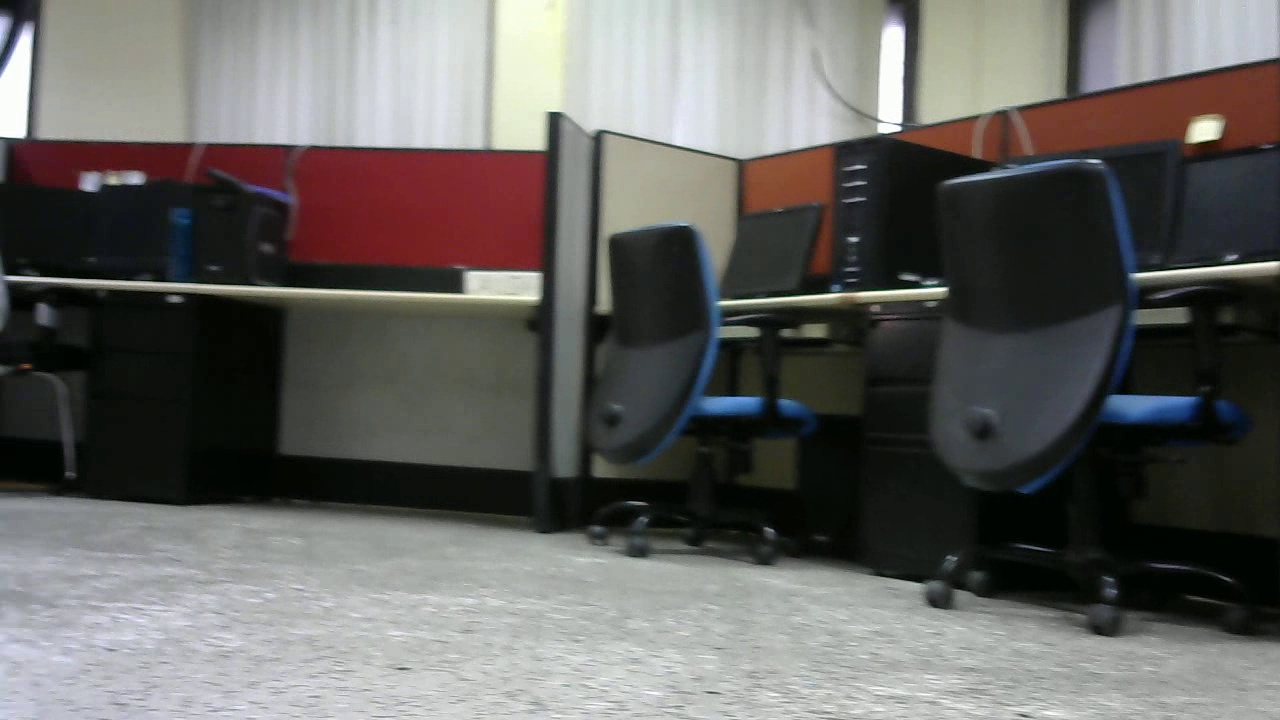chair: (923, 154, 1258, 637), (579, 219, 817, 576)
